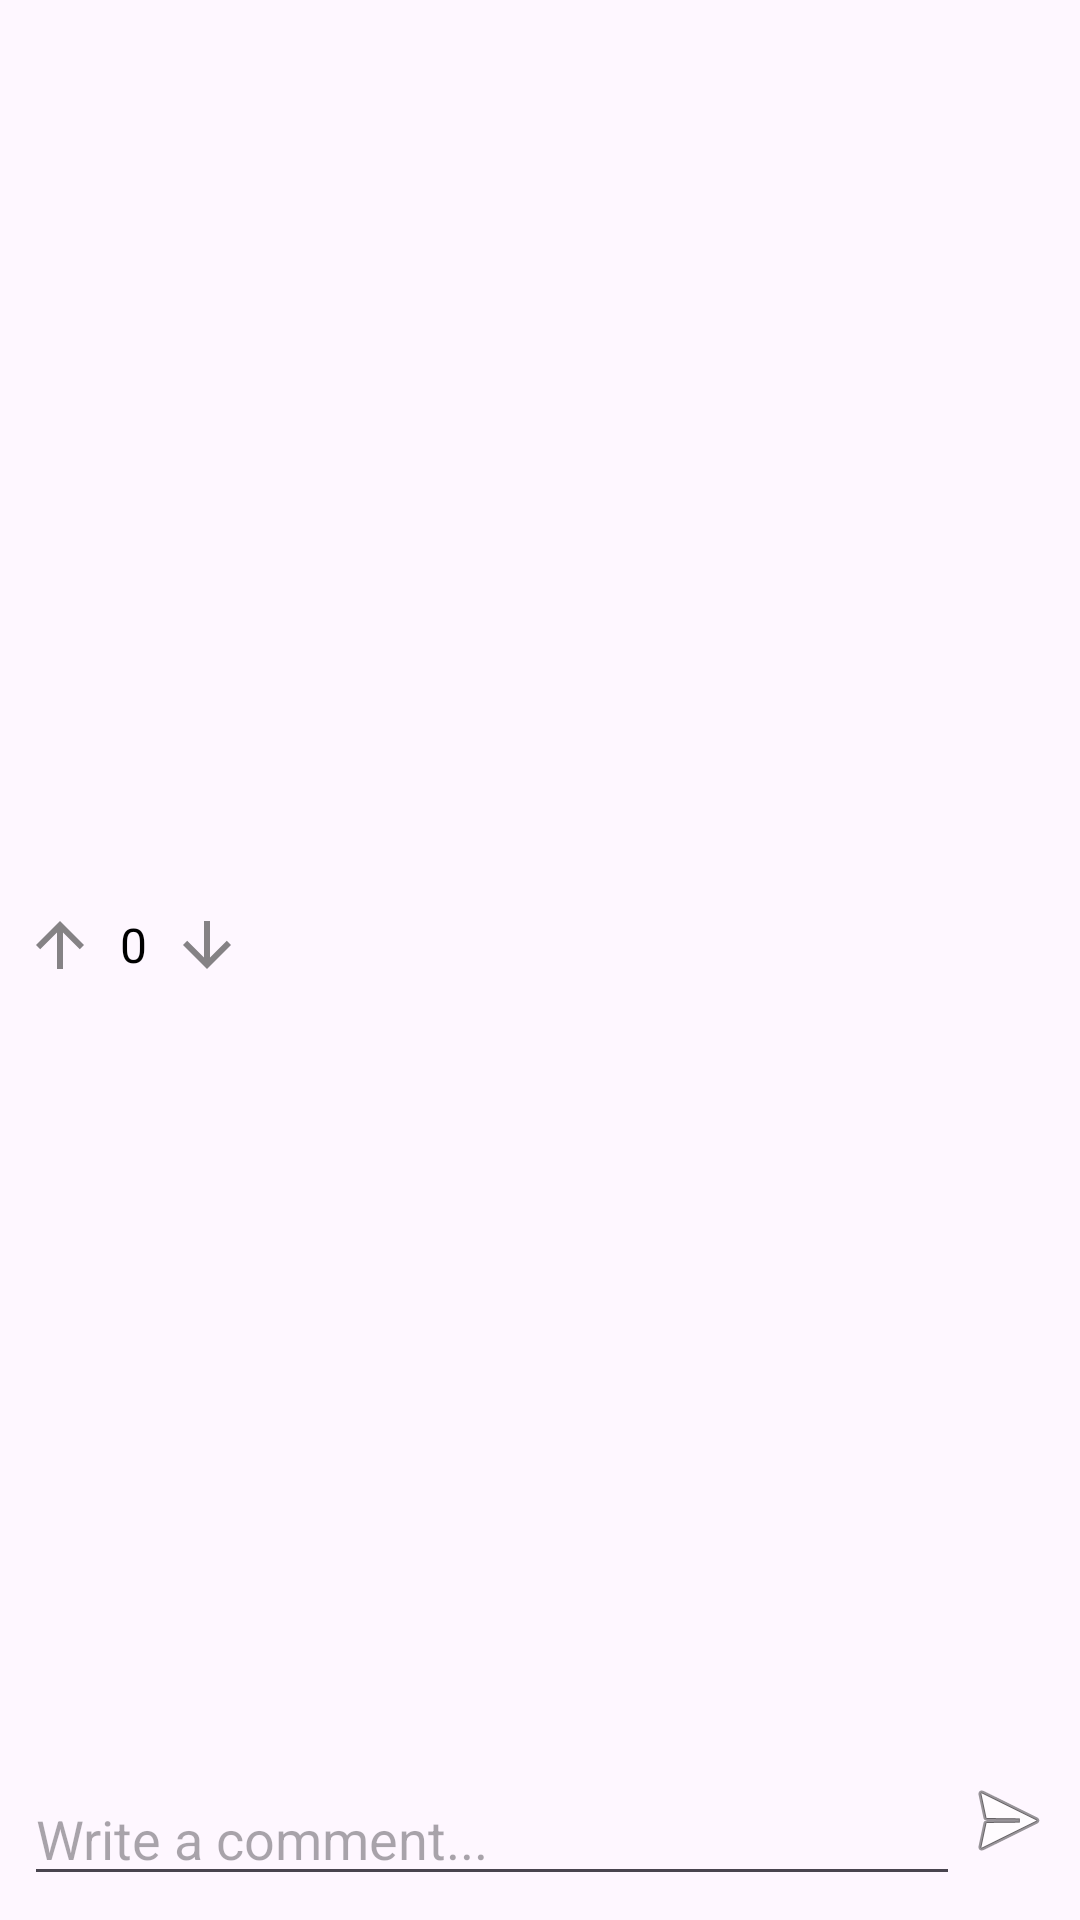

Screen size 1080×1920. Icon name, then its center in pixels as [x,y]:
Downvote: [207,945]
Send Comment: [1009,1820]
Upvote: [60,945]
